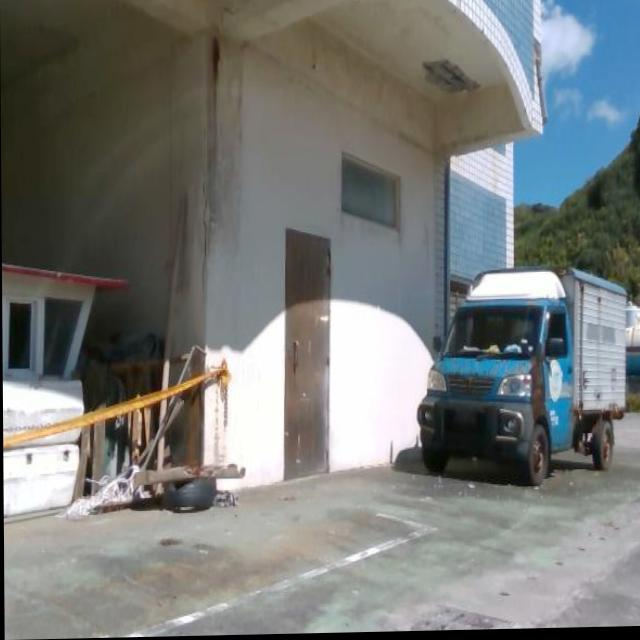pollute: (1, 256, 257, 524)
